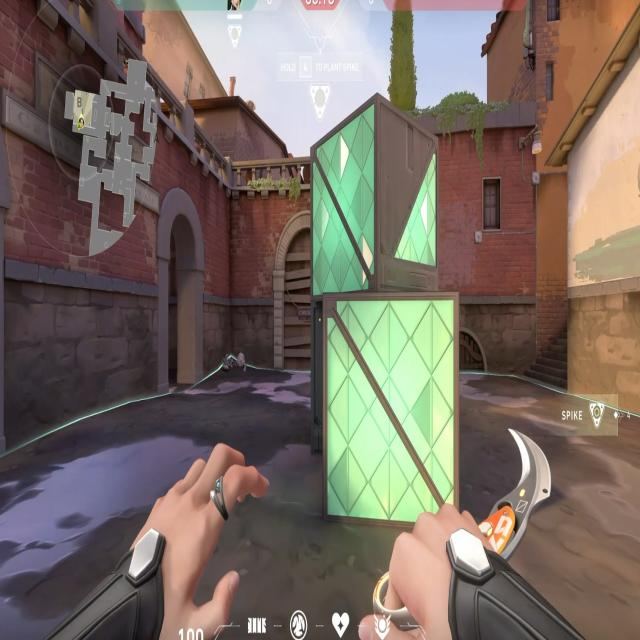B_Boathouse: (152, 167, 212, 394)
B_Site_Box: (293, 82, 472, 540)
